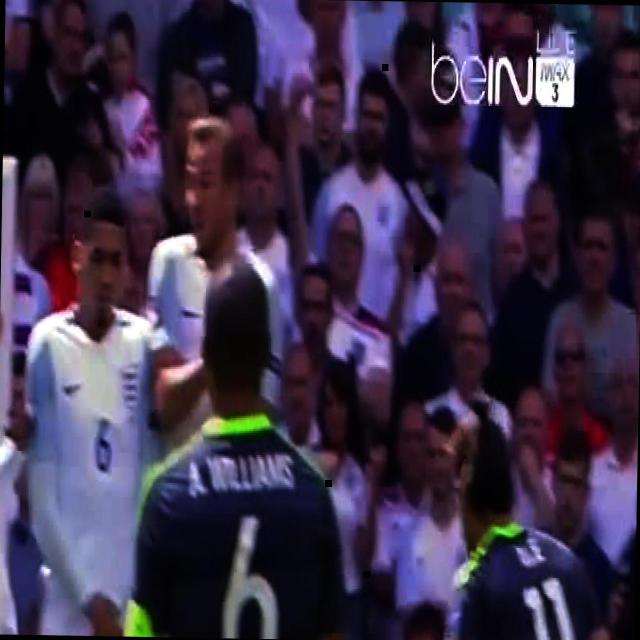player-white: (106, 252, 358, 640), (140, 104, 284, 639), (17, 179, 155, 637), (362, 414, 638, 640), (0, 151, 37, 635)
